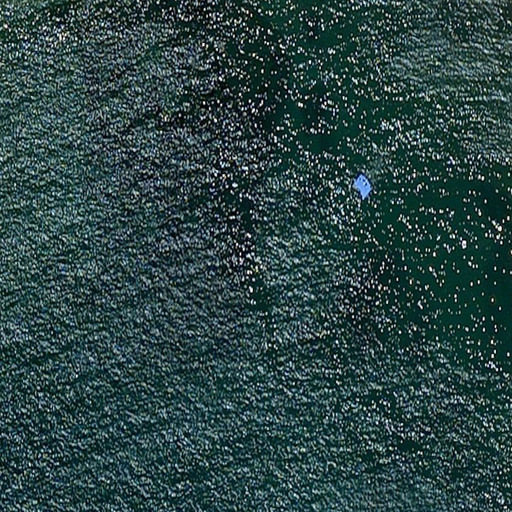ship: (352, 174, 375, 201)
